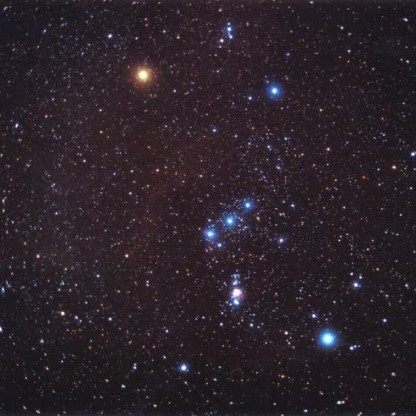Orion: (306, 318, 340, 354), (131, 58, 153, 93), (262, 78, 287, 106), (195, 218, 216, 249), (171, 358, 195, 381), (240, 189, 256, 223), (220, 209, 237, 236)
